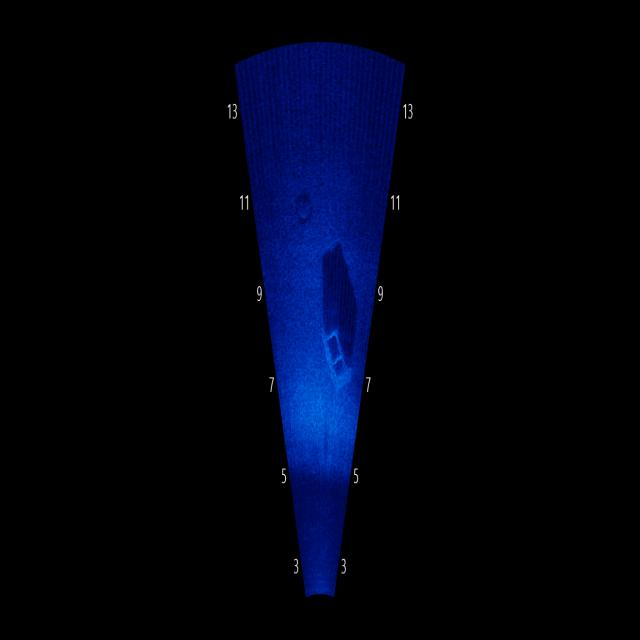circle: (292, 175, 316, 230)
square: (315, 308, 360, 420)
